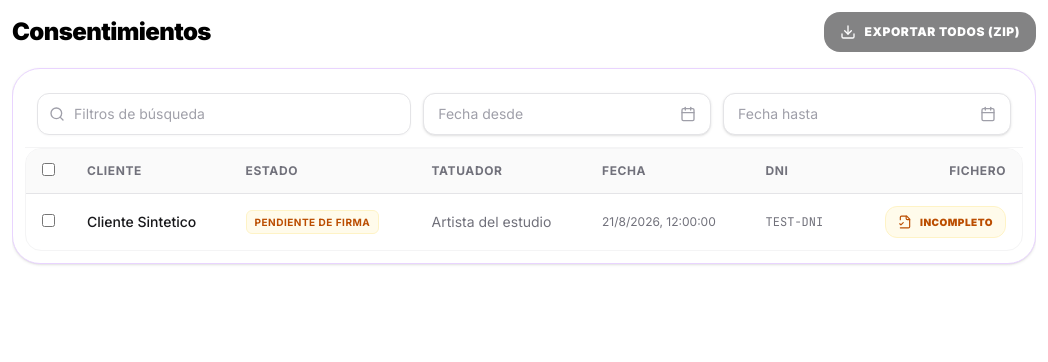
Test case: ConsentsManager truthful ZIP export › disables ZIP actions when the current rows have no final PDF
expect the button "Exportar todos (ZIP)" is disabled: met, box top-left (824, 12), bottom-right (1036, 52)
Step 1. Click the checkbox next to "Cliente Sintetico" → x=48, y=221, box top-left (42, 214), bottom-right (55, 227)
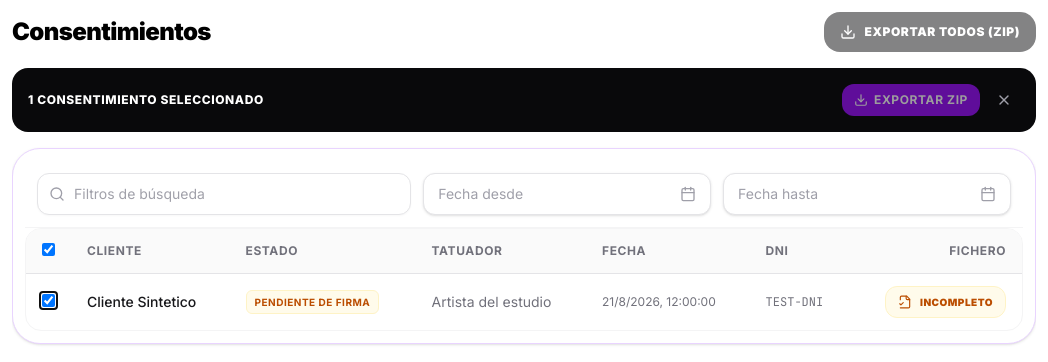
expect the button "Exportar ZIP" is disabled: met, box top-left (842, 84), bottom-right (980, 116)
